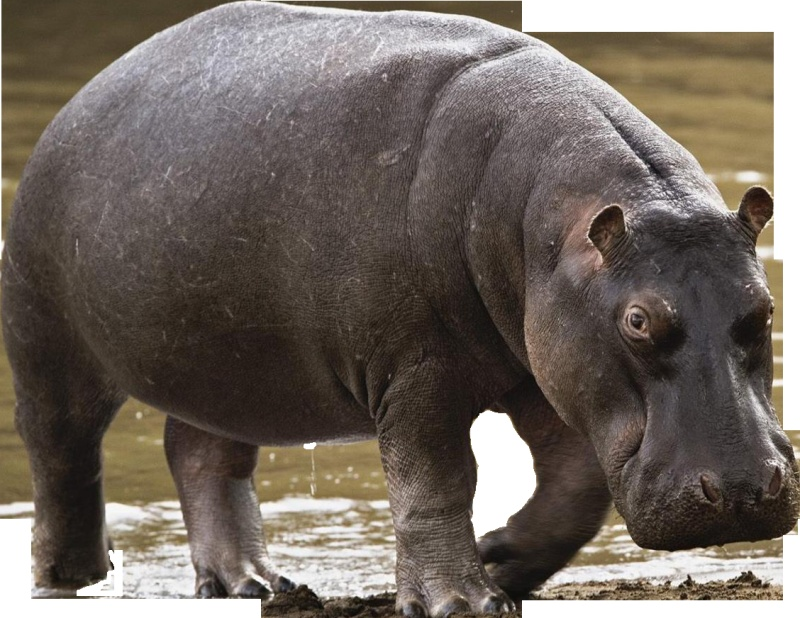hipopotamo: (0, 6, 792, 557)
